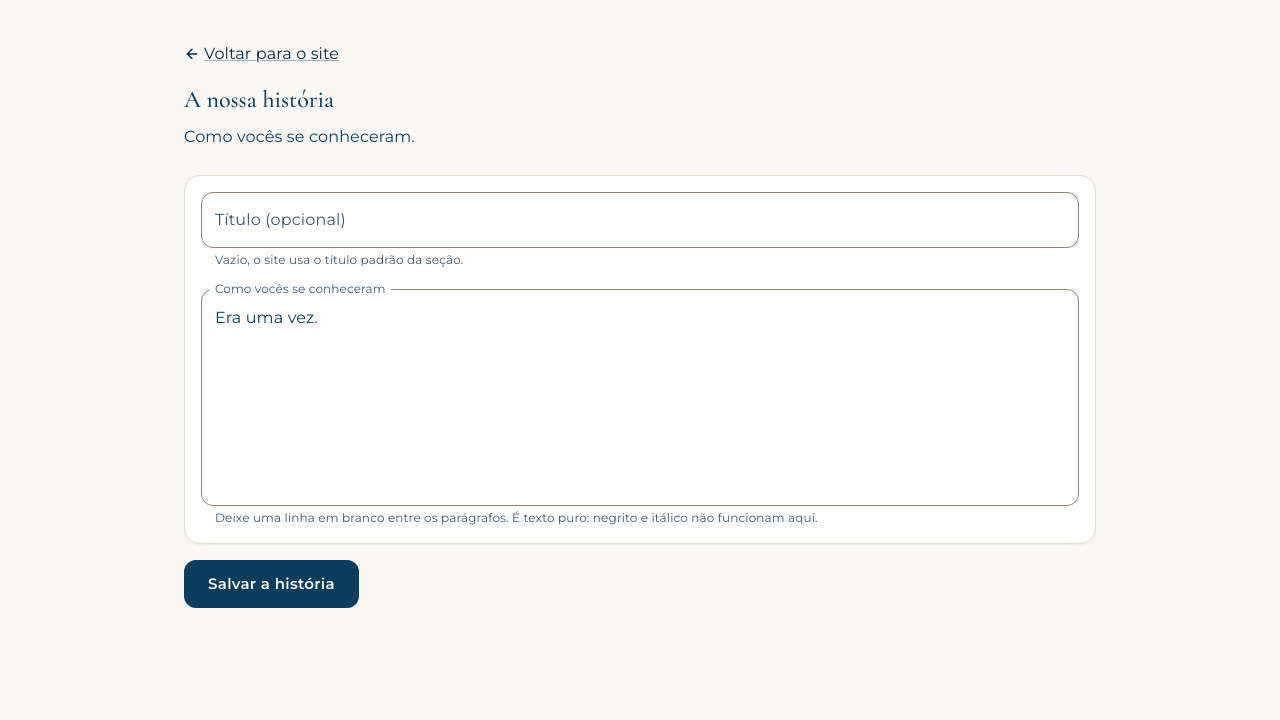
com texto digitado e não salvo › voltar pergunta antes, e diz o que se perde
Replace the text in the text box labelled "Como vocês se conheceram" with "Era uma vez, e mais um parágrafo.": (640,398) [215,306,1065,490]
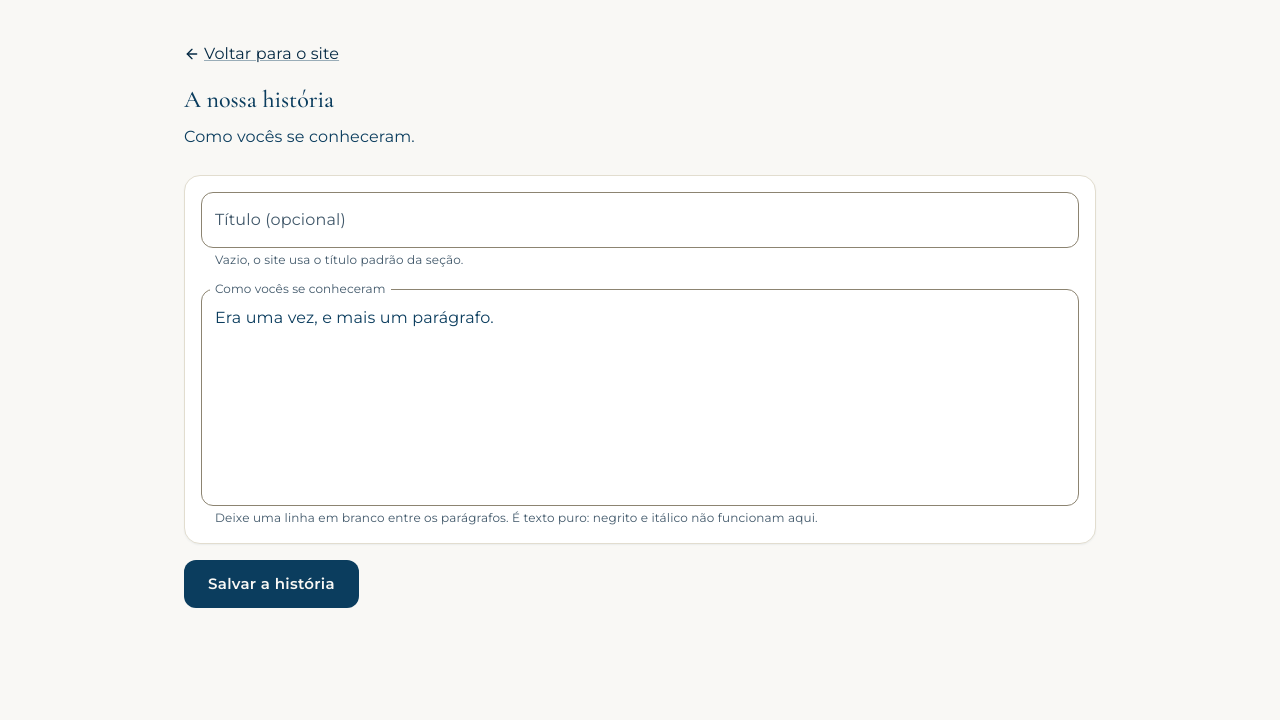
Click the link "Voltar para o site": (262,54) [184,44,339,63]
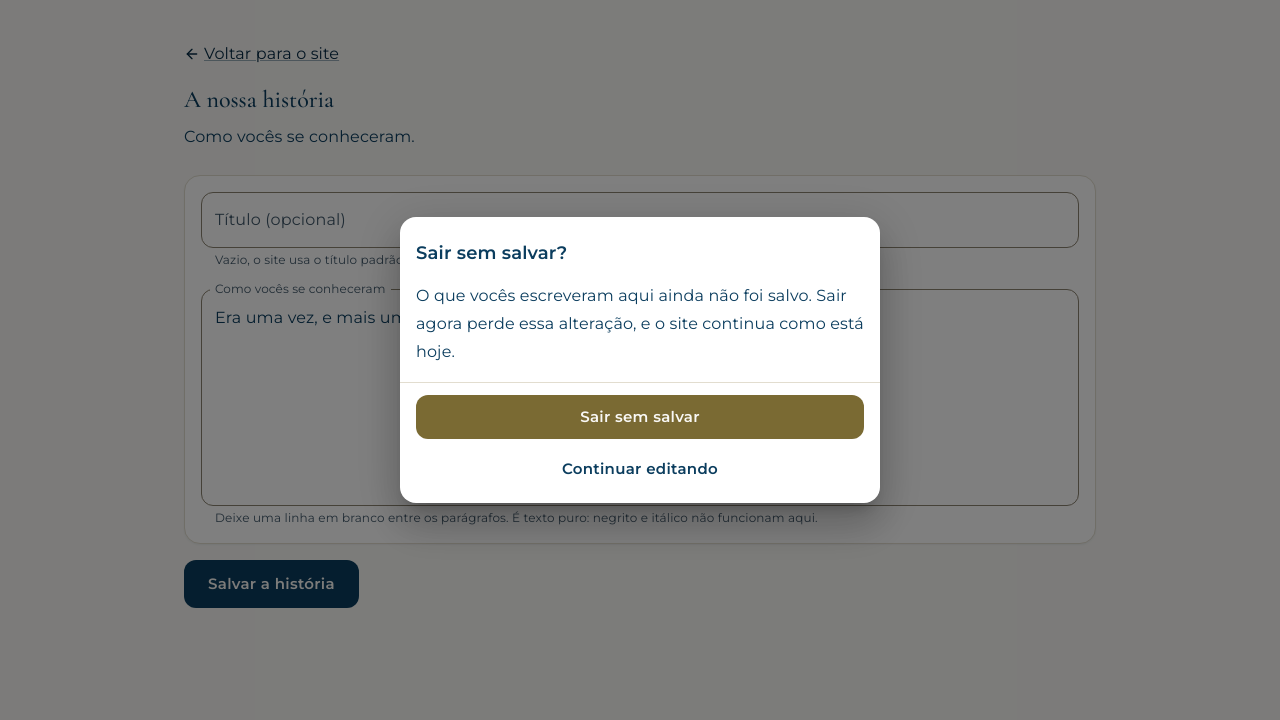
Result: the heading "Sair sem salvar?" is shown at [416,242,567,264]
Result: the text "o site continua como está hoje" is shown at [416,286,864,361]
